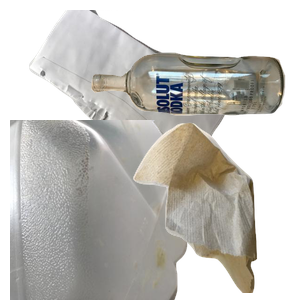glass: (88, 50, 300, 158)
paper: (27, 10, 252, 187)
plastic: (10, 120, 190, 300)
trash: (131, 120, 300, 300)
